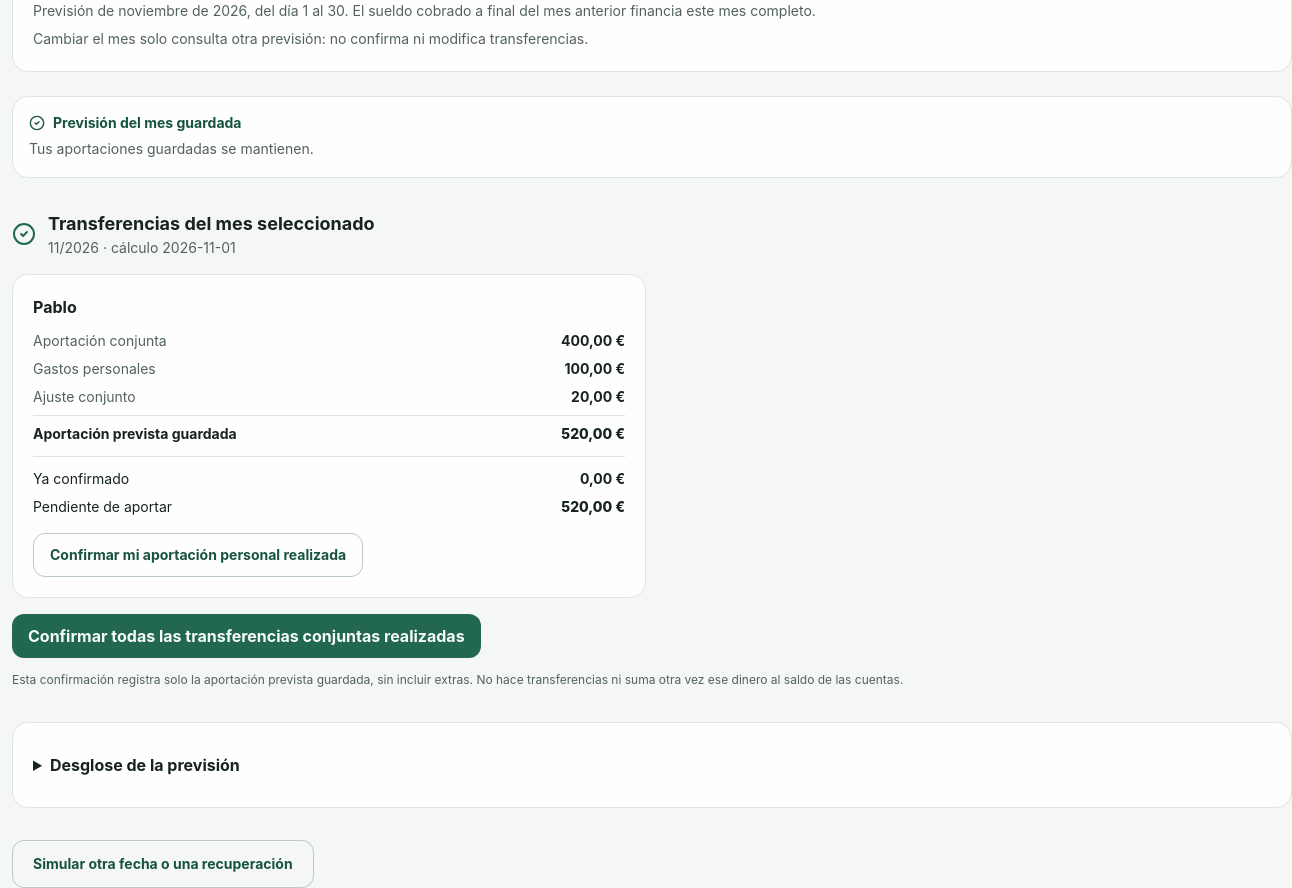
it: PlanningPage salary month forecast › labels an estimated variable month closing in the saved breakdown without claiming it is final
(page scrolled)
Click the heading "Desglose de la previsión" at (145, 765), box [50,755,240,775]
(page scrolled)
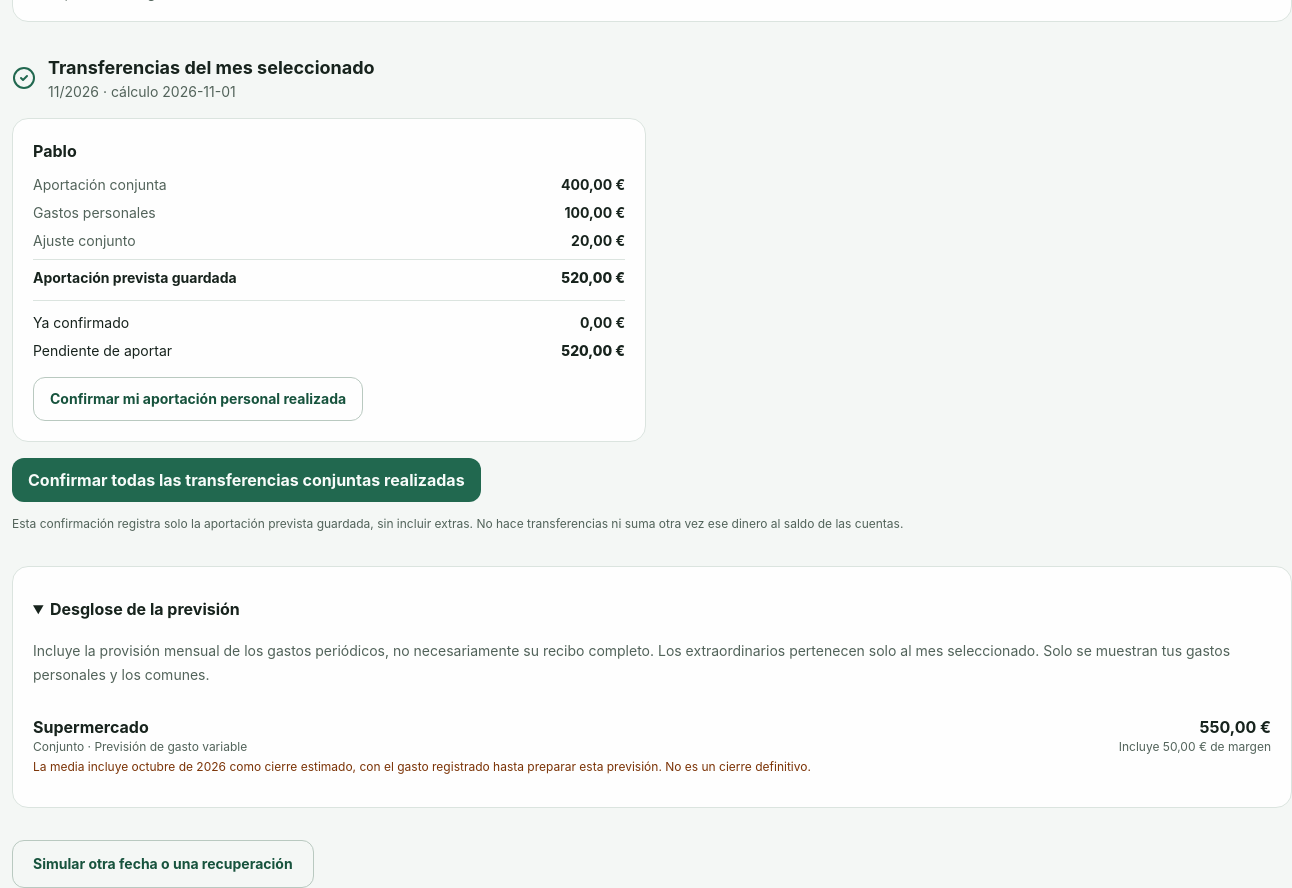
Expected: the text "La media incluye octubre de 2026 como cierre estimado" is shown, [33,759,811,775]
Expected: the text "No es un cierre definitivo" is shown, [226,759,811,774]
Expected: the text "Incluye 50,00 € de margen" is shown, [1119,739,1271,755]
